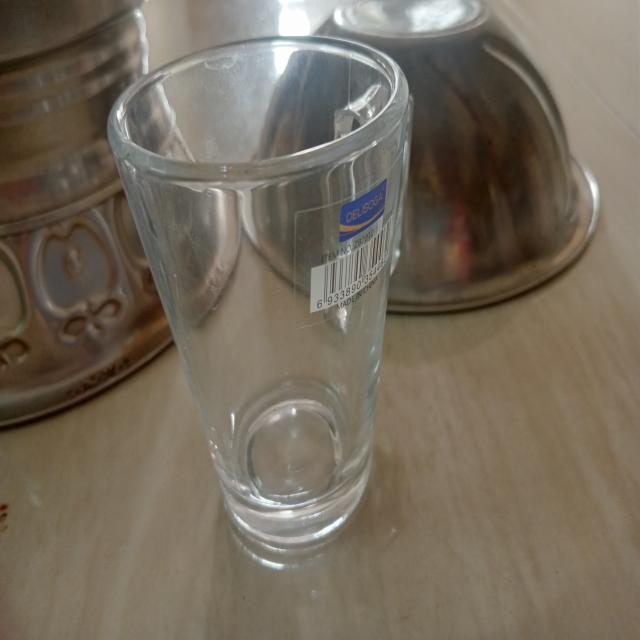glass-VX4N: (107, 30, 410, 551)
